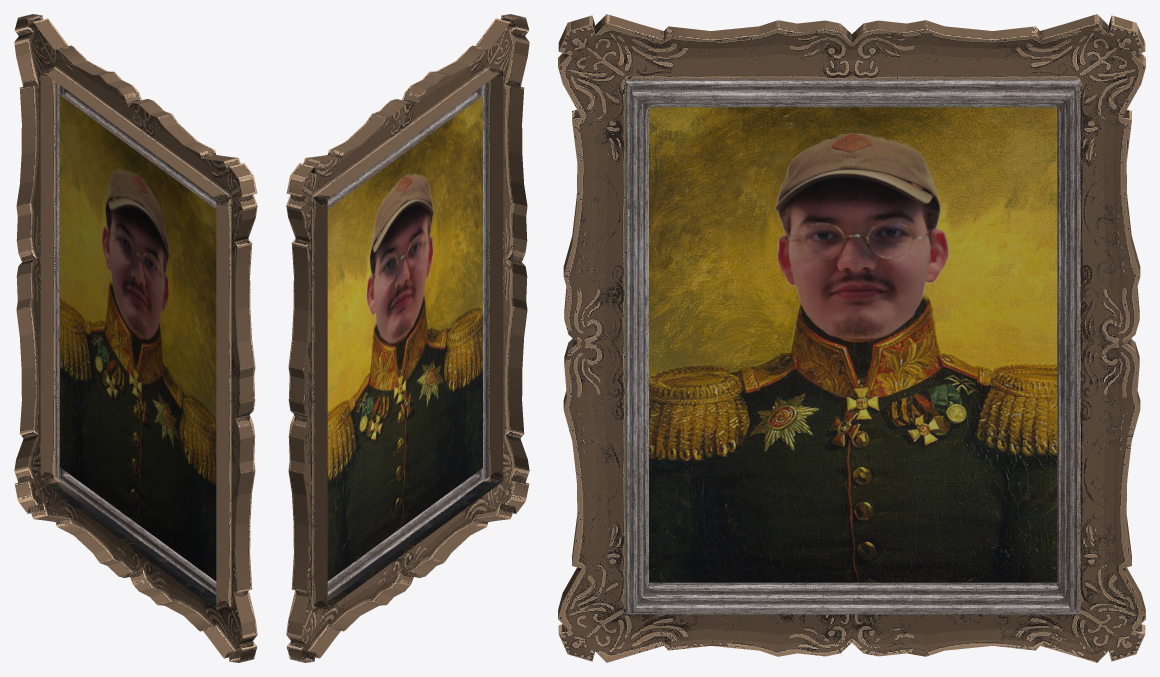
File: Cadre.fbx
3 renders of one model, left to right at view 1: azimuth 30°, elevation 25°; view 2: azimuth 150°, elevation 25°; view 3: azimuth 270°, elevation 25°, orthographic. The views are drawn at different scales.
Parts seen in each view (by area): view 1: g PictureFrame; view 2: g PictureFrame; view 3: g PictureFrame.
Boxes of the visible parts, x1,y1,x2,y2 form: g PictureFrame: (14, 14, 257, 662); g PictureFrame: (286, 14, 529, 662); g PictureFrame: (558, 14, 1145, 662).
Size of the model in its own units: 117 by 2013 by 1677.
